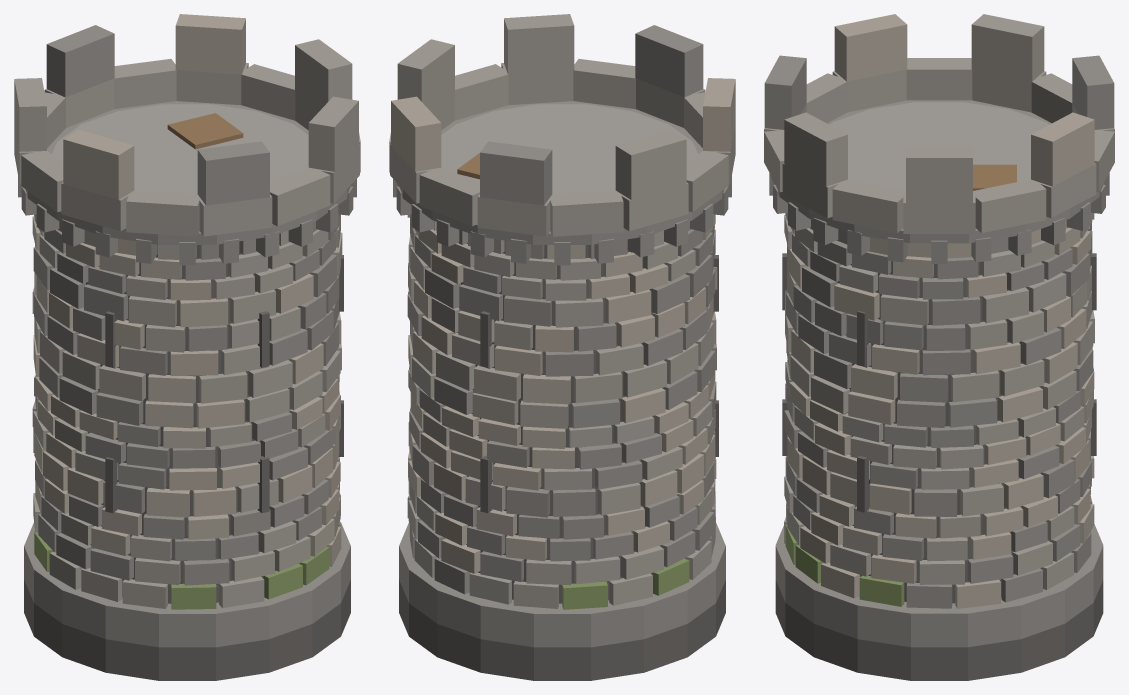
File: SM_Tower_Round.fbx
3 views of the same model, side by side, from view 1: azimuth 30°, elevation 25°; view 2: azimuth 150°, elevation 25°; view 3: azimuth 270°, elevation 25° (orthographic).
Visible parts, largest first — view 1: SM_Tower_Round; view 2: SM_Tower_Round; view 3: SM_Tower_Round.
Boxes of the visible parts, x1=… form: SM_Tower_Round: x1=14, y1=14, x2=360, y2=680; SM_Tower_Round: x1=389, y1=14, x2=735, y2=680; SM_Tower_Round: x1=764, y1=14, x2=1114, y2=680.
Size of the model in its own units: 5.55 by 9.4 by 5.67.
